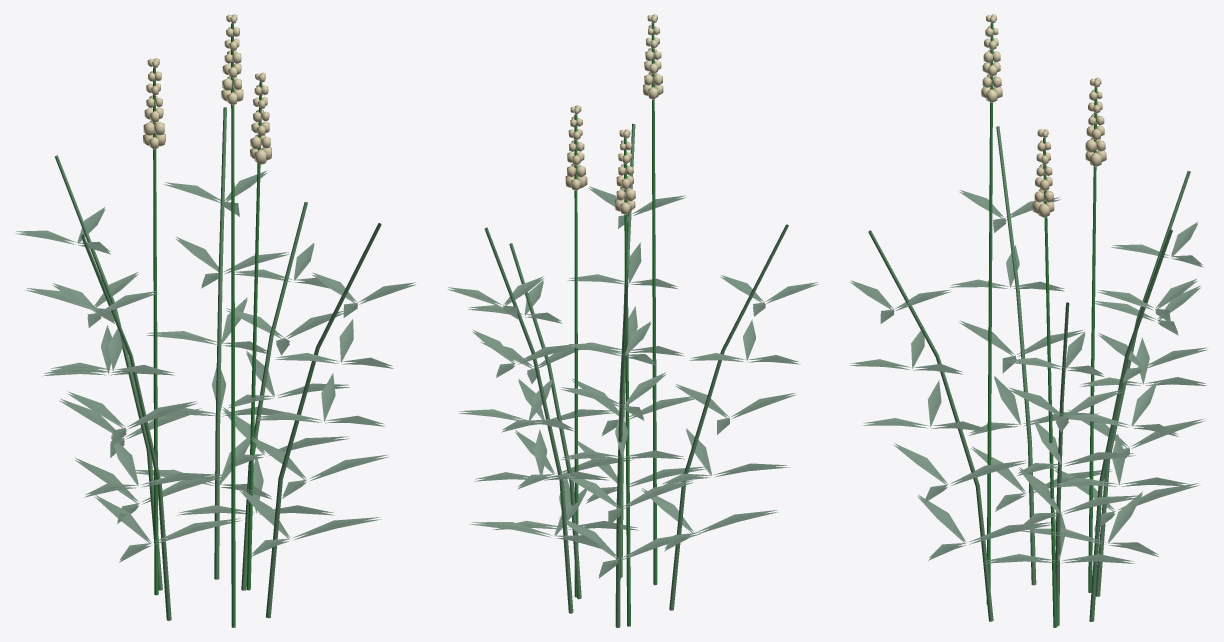
File: ing_mugwort.gltf
3 renders of one model, left to right at view 1: azimuth 30°, elevation 25°; view 2: azimuth 150°, elevation 25°; view 3: azimuth 270°, elevation 25°, orthographic. The views are drawn at different scales.
Parts seen in each view (by area): view 1: ing_mugwort; view 2: ing_mugwort; view 3: ing_mugwort.
Boxes of the visible parts, x1,y1,x2,y2 form: ing_mugwort: [15, 14, 415, 627]; ing_mugwort: [447, 14, 819, 627]; ing_mugwort: [849, 14, 1208, 627].
Size of what is drawn, in the model's own units: 0.4162 by 0.7572 by 0.4207.
